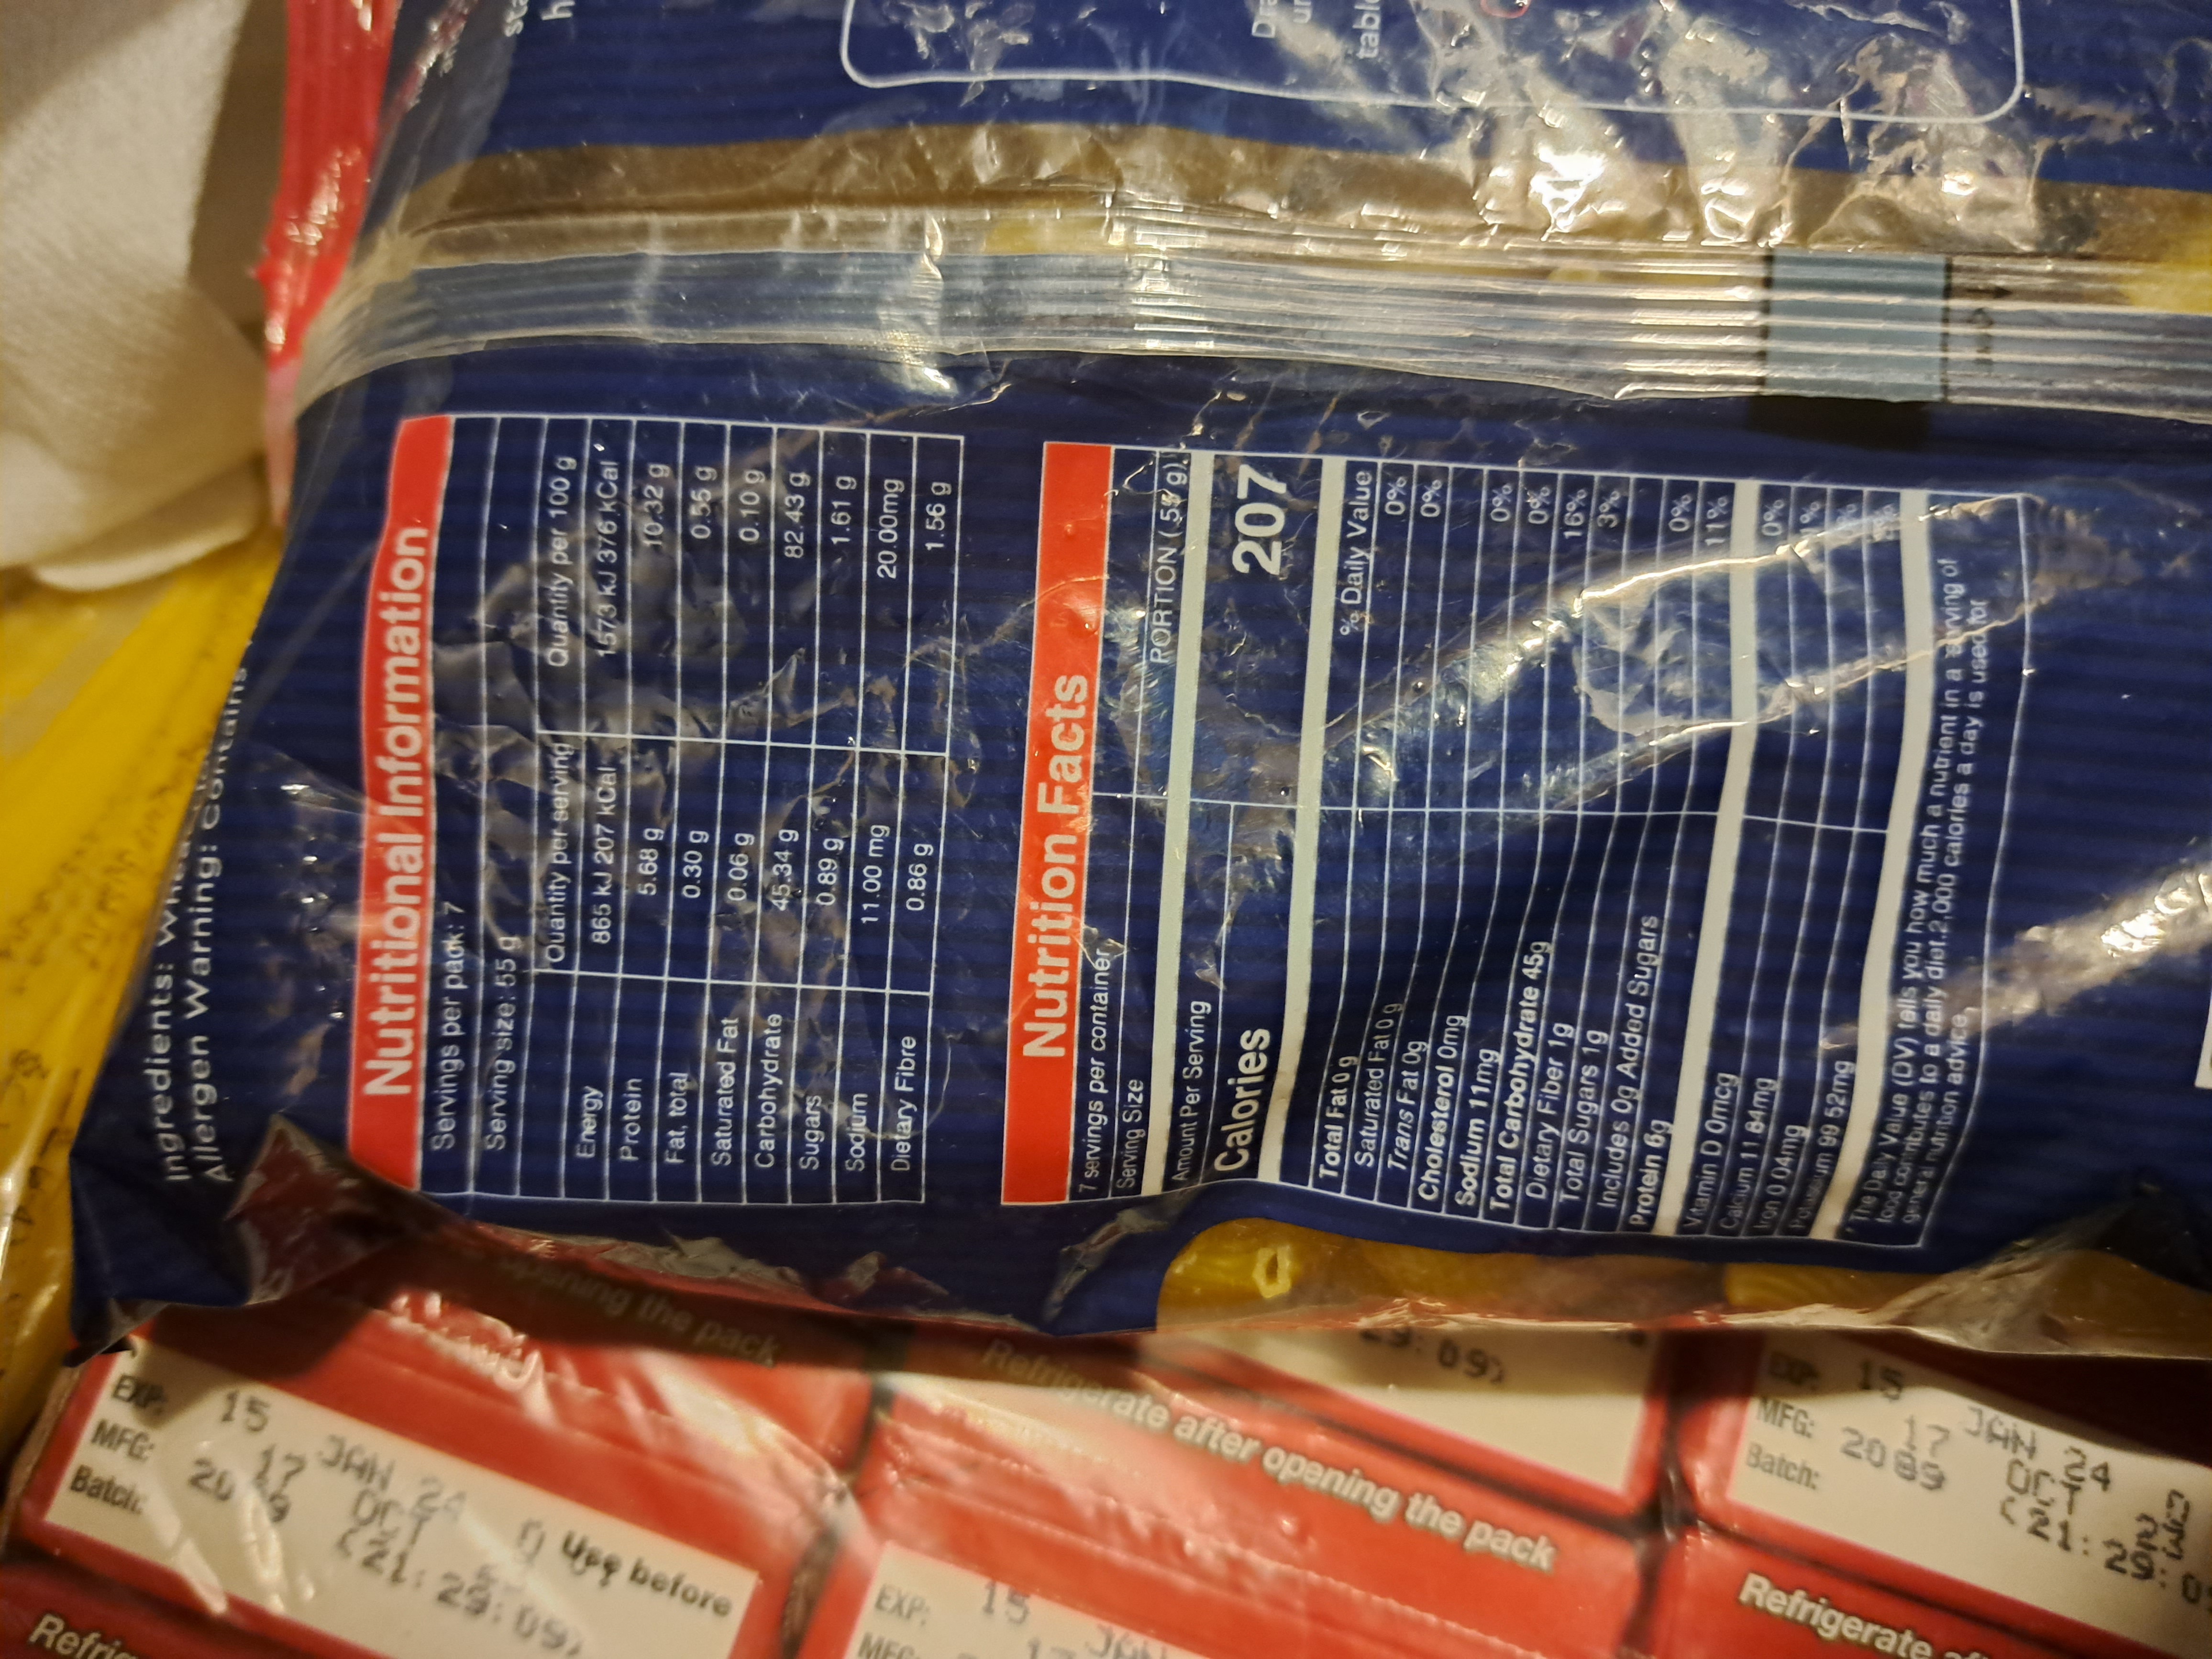table: (374, 410, 1989, 1263)
